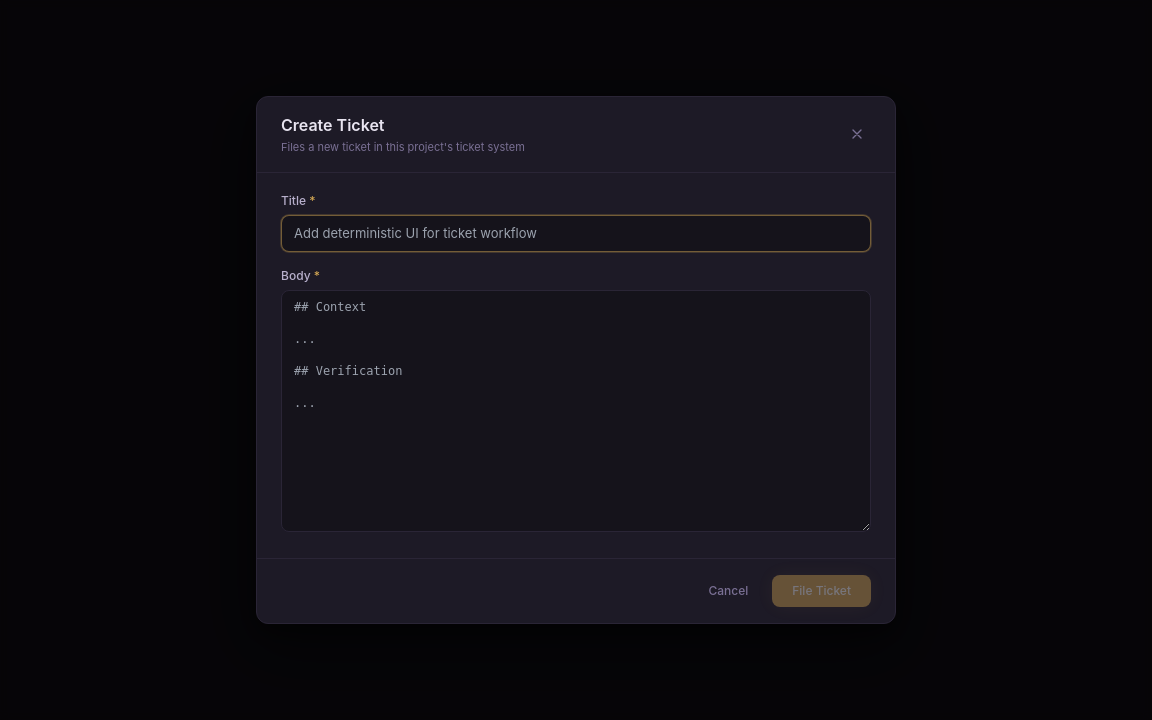
Test case: CreateTicketDialog › surfaces an error from tickets.create
Step 1. Type "t" into the field with test id "create-ticket-title" → (576, 233), box [281, 214, 871, 252]
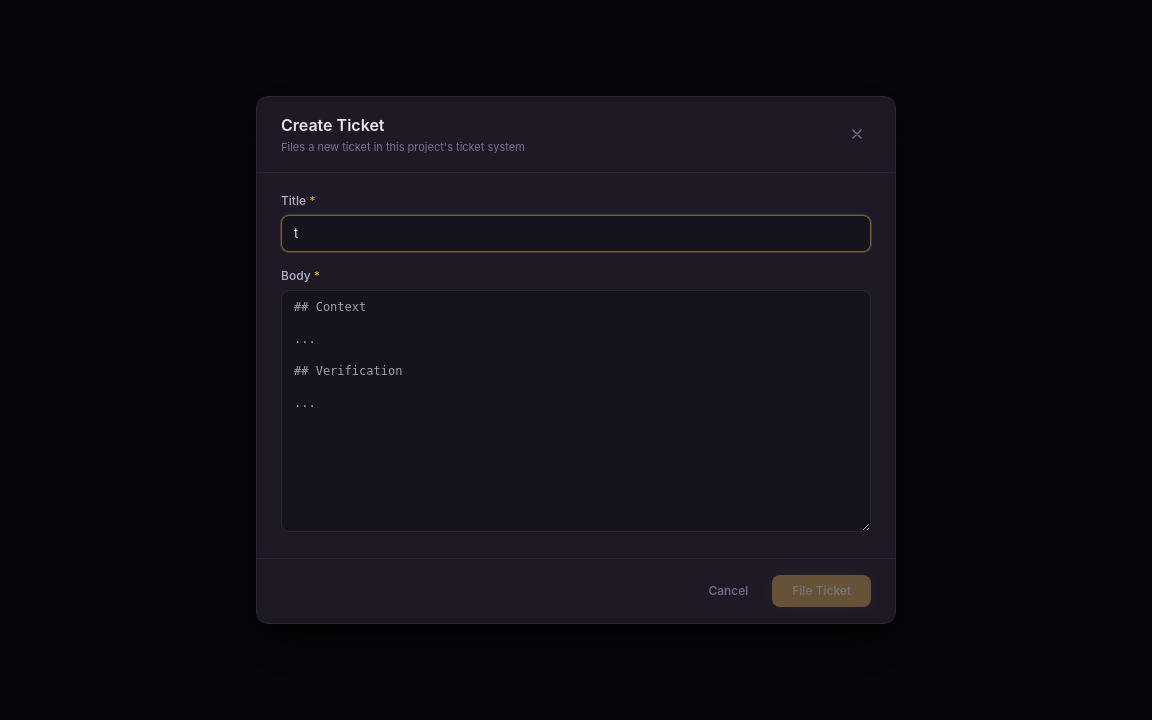
Step 2. Type "b" into the text box with test id "create-ticket-body" → (576, 411), box [281, 290, 871, 532]
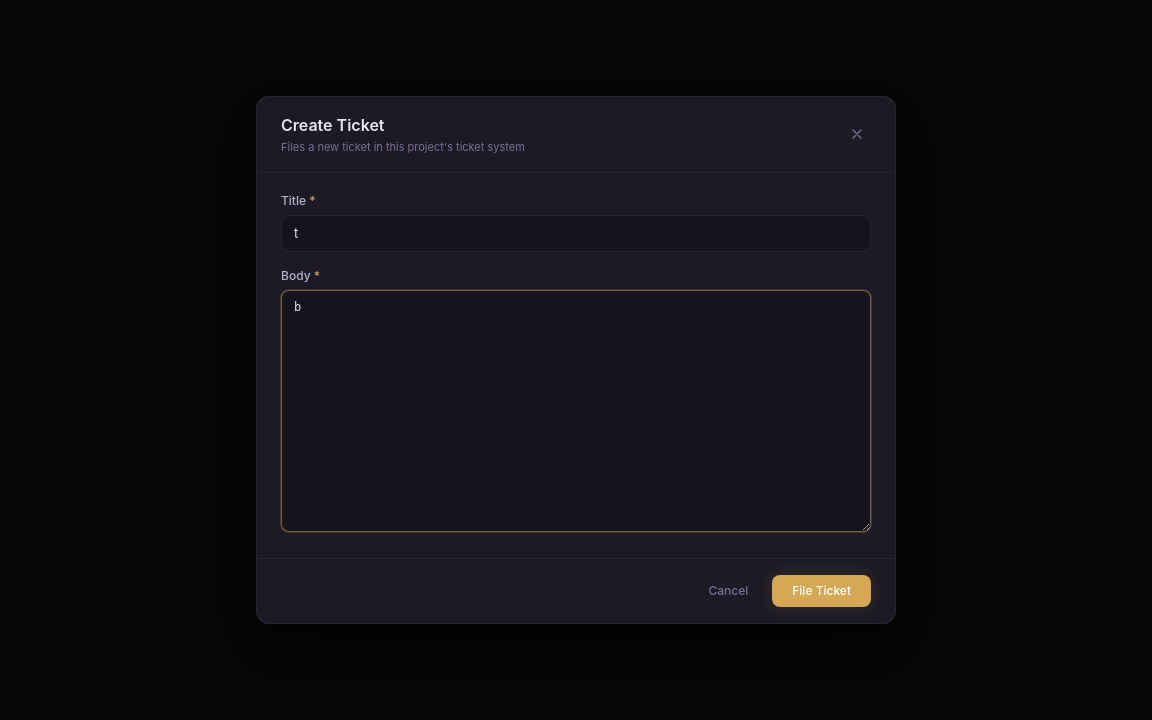
Step 3. Click the button with test id "create-ticket-submit" → (822, 591), box [772, 575, 871, 607]
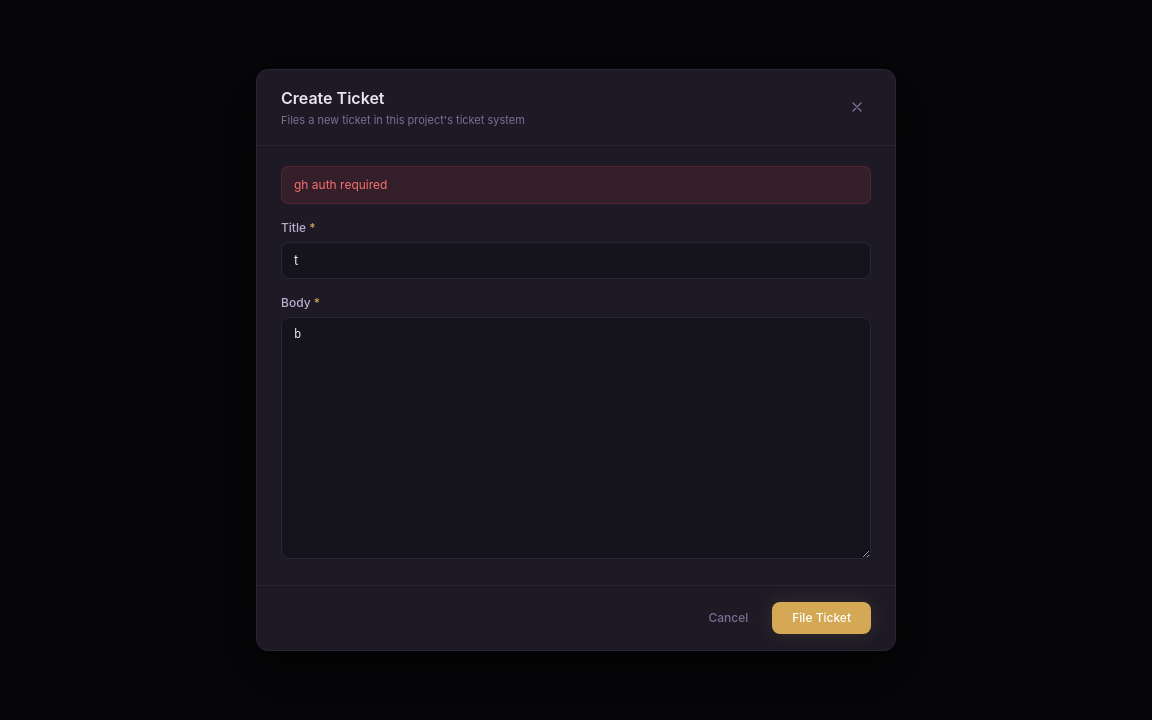
Result: the text with test id "create-ticket-error" reads "gh auth required" at [294, 176, 387, 192]
